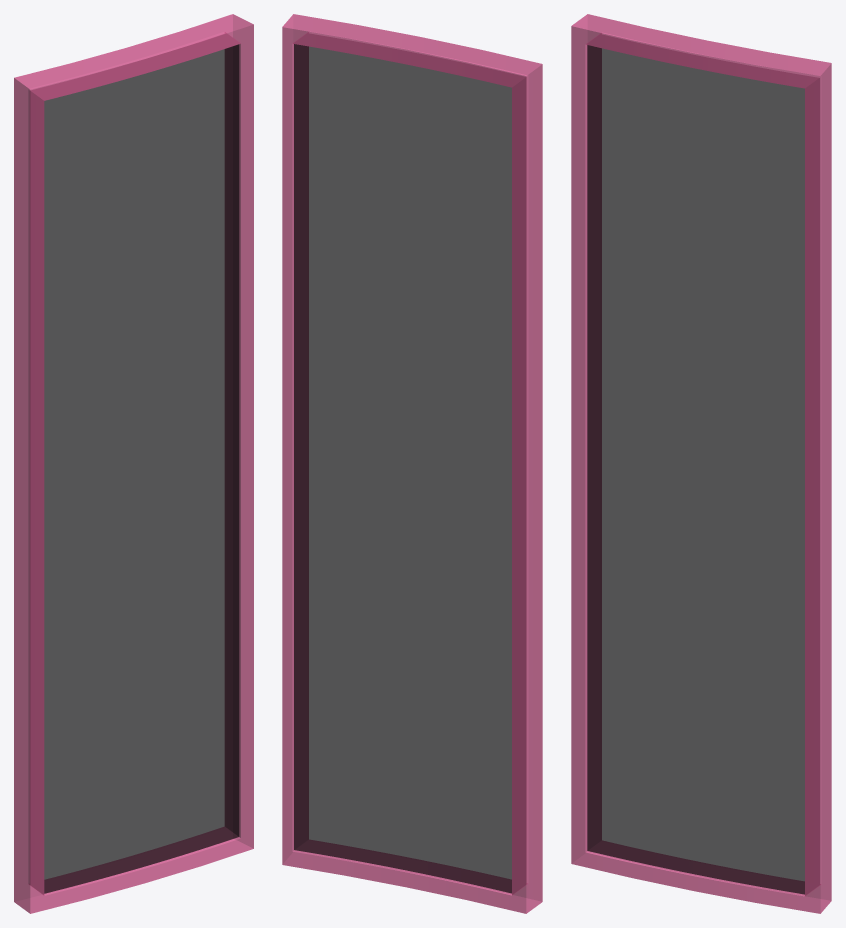
Rendered from OsakaDoorOptimized.fbx.
3 views of the same model, side by side, from view 1: azimuth 30°, elevation 25°; view 2: azimuth 150°, elevation 25°; view 3: azimuth 330°, elevation 25° (orthographic).
Visible parts, largest first — view 1: Glass_R, Door_R; view 2: Glass_R, Door_R; view 3: Glass_R, Door_R.
Boxes of the visible parts, bbox=[...] form: Glass_R: bbox=[44, 44, 239, 893]; Door_R: bbox=[14, 14, 253, 913]; Glass_R: bbox=[294, 44, 511, 893]; Door_R: bbox=[282, 14, 542, 913]; Glass_R: bbox=[587, 45, 804, 894]; Door_R: bbox=[571, 14, 831, 913].
Bounding box in the file's own units: 83.33 × 280 × 16.54.
